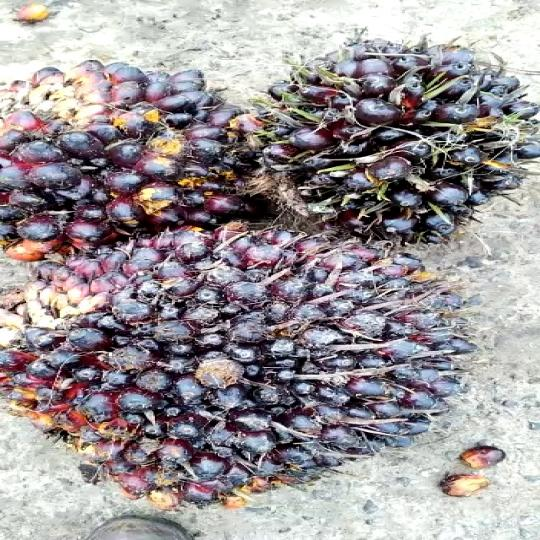kurang masak: (0, 223, 497, 514), (246, 47, 540, 264), (0, 60, 277, 255)
